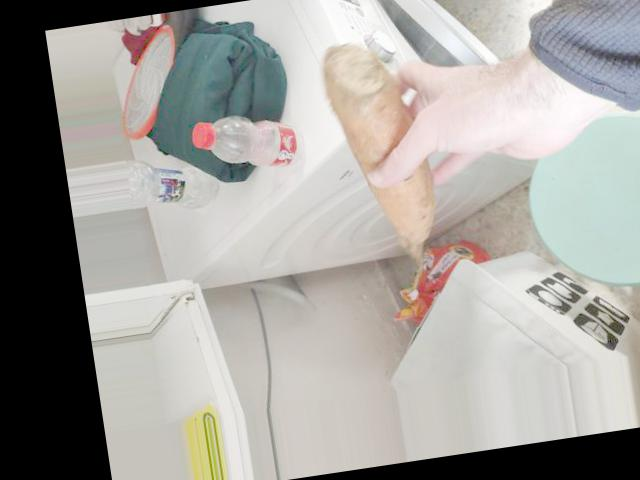sweet_potato: (332, 38, 430, 273)
